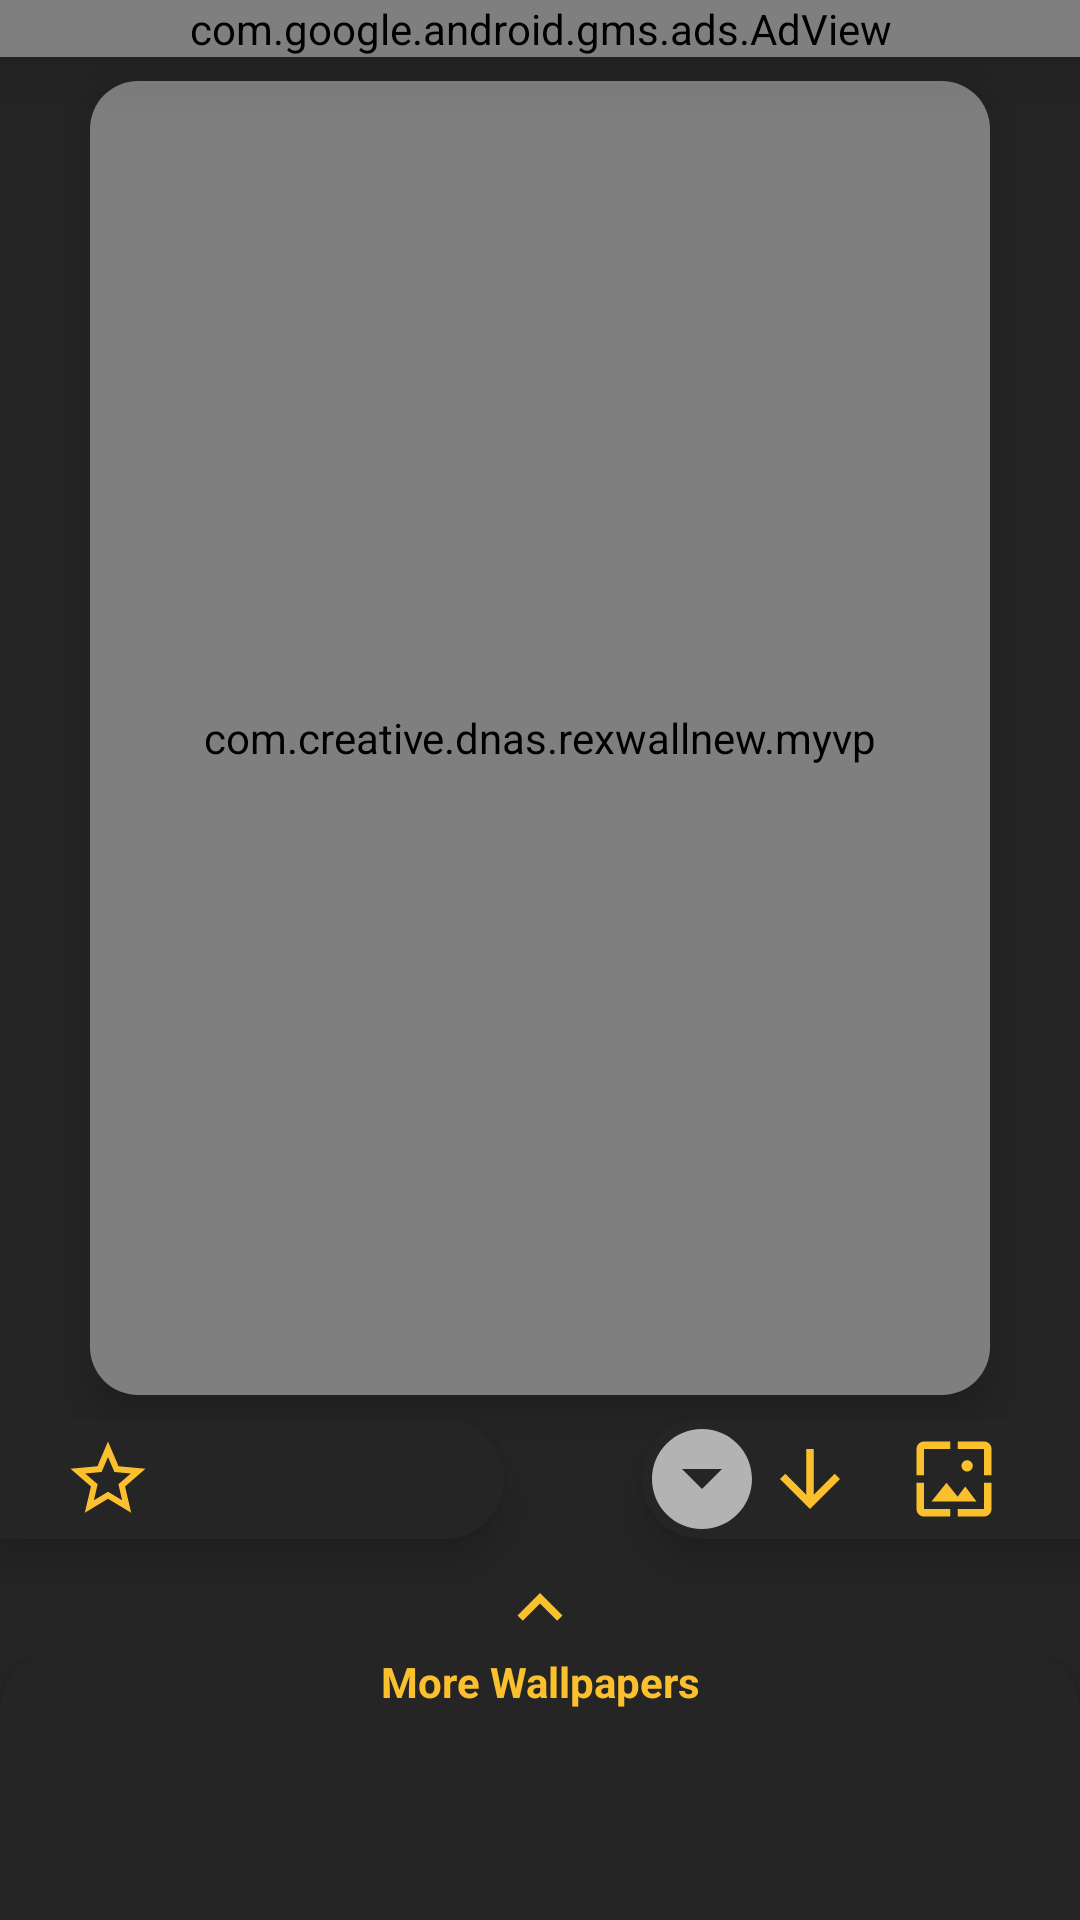

Named icons in this screenshot (1080x1920) and their centers, (x,y):
arow up: (540,1607)
download: (810,1479)
